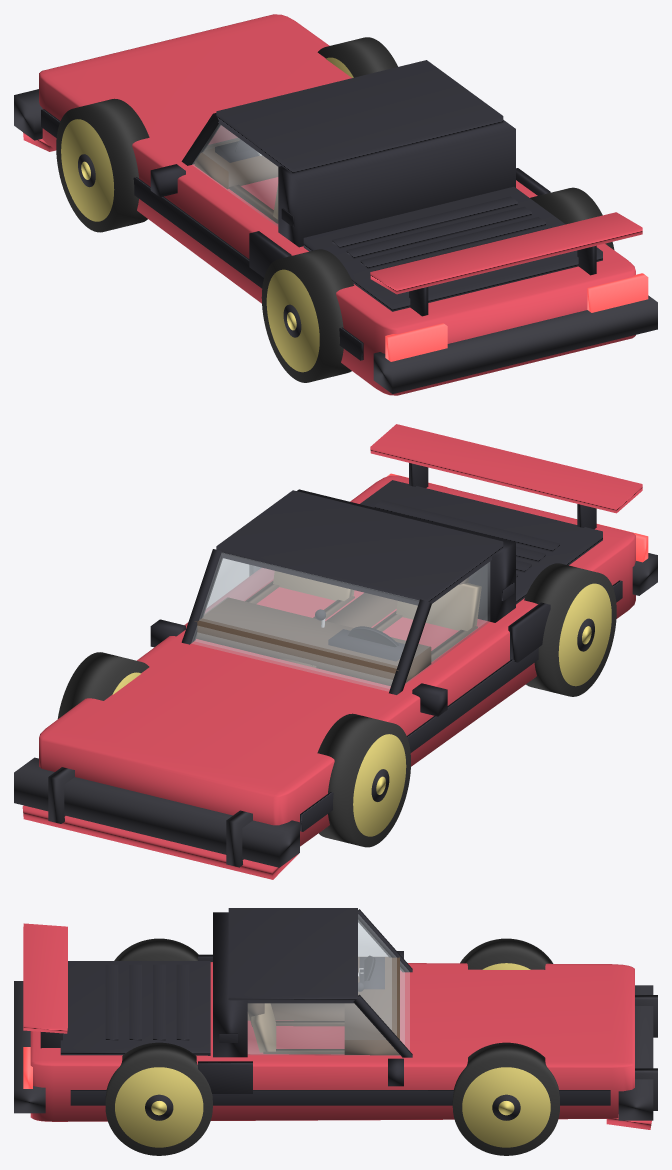
File: karoo_kaap_gt.glb
3 renders of one model, top to bottom at view 1: azimuth 30°, elevation 25°; view 2: azimuth 150°, elevation 25°; view 3: azimuth 270°, elevation 25°, orthographic. The views are drawn at different scales.
Visible parts, largest first — view 1: Body_Wedge_Hull, Roof_Targa_Black_Top, Roof_Targa_B_Pillar, Rear_Bumper_Black, Engine_Deck_Lid, Track_Rear_Wing, Wheel_FL_Tire, Wheel_RL_Tire, Glass_Side_Window_Left, Wheel_RL_Rim_Lip, Wheel_FL_Rim_Lip, Side_Black_Stripe_-0.8 (+12 smaller); view 2: Body_Wedge_Hull, Roof_Targa_Black_Top, Glass_Windshield, Front_Bumper_Bar_Black, Track_Rear_Wing, Interior_Dash_Main, Engine_Deck_Lid, Wheel_FL_Tire, Wheel_RL_Tire, Glass_Side_Window_Left, Wheel_RL_Rim_Lip, Wheel_FL_Rim_Lip (+17 smaller); view 3: Body_Wedge_Hull, Roof_Targa_Black_Top, Engine_Deck_Lid, Glass_Side_Window_Right, Wheel_FR_Rim_Lip, Wheel_RR_Rim_Lip, Side_Black_Stripe_0.8, Track_Rear_Wing, Wheel_FR_Tire, Wheel_RR_Tire, Glass_Windshield, Interior_Dash_Main (+24 smaller).
Boxes of the visible parts, x1,y1,x2,y2 form: Body_Wedge_Hull: (39, 14, 635, 395); Roof_Targa_Black_Top: (216, 60, 503, 173); Roof_Targa_B_Pillar: (278, 120, 515, 247); Rear_Bumper_Black: (373, 295, 657, 393); Engine_Deck_Lid: (303, 186, 602, 311); Track_Rear_Wing: (370, 212, 642, 294); Wheel_FL_Tire: (56, 98, 149, 232); Wheel_RL_Tire: (261, 249, 354, 382); Glass_Side_Window_Left: (192, 124, 278, 226); Wheel_RL_Rim_Lip: (266, 269, 319, 372); Wheel_FL_Rim_Lip: (61, 119, 114, 221); Side_Black_Stripe_-0.8: (41, 109, 363, 360); Body_Wedge_Hull: (39, 475, 635, 846); Roof_Targa_Black_Top: (216, 490, 503, 605); Glass_Windshield: (191, 552, 418, 691); Front_Bumper_Bar_Black: (14, 757, 299, 867); Track_Rear_Wing: (370, 424, 642, 513); Interior_Dash_Main: (194, 597, 431, 685); Engine_Deck_Lid: (360, 480, 602, 604); Wheel_FL_Tire: (317, 713, 410, 847); Wheel_RL_Tire: (524, 563, 616, 696); Glass_Side_Window_Left: (405, 562, 489, 684); Wheel_RL_Rim_Lip: (558, 583, 611, 686); Wheel_FL_Rim_Lip: (353, 734, 406, 836); Body_Wedge_Hull: (30, 962, 634, 1121); Roof_Targa_Black_Top: (228, 908, 357, 1003); Engine_Deck_Lid: (60, 961, 210, 1055); Glass_Side_Window_Right: (247, 1003, 400, 1055); Wheel_FR_Rim_Lip: (462, 1067, 550, 1147); Wheel_RR_Rim_Lip: (115, 1067, 203, 1147); Side_Black_Stripe_0.8: (70, 1090, 610, 1105); Track_Rear_Wing: (23, 923, 67, 1033); Wheel_FR_Tire: (452, 1042, 559, 1155); Wheel_RR_Tire: (105, 1042, 212, 1155); Glass_Windshield: (358, 914, 409, 1050); Interior_Dash_Main: (344, 957, 399, 1055).
Bounding box in the file's own units: 1.82 × 1.01 × 4.08.
